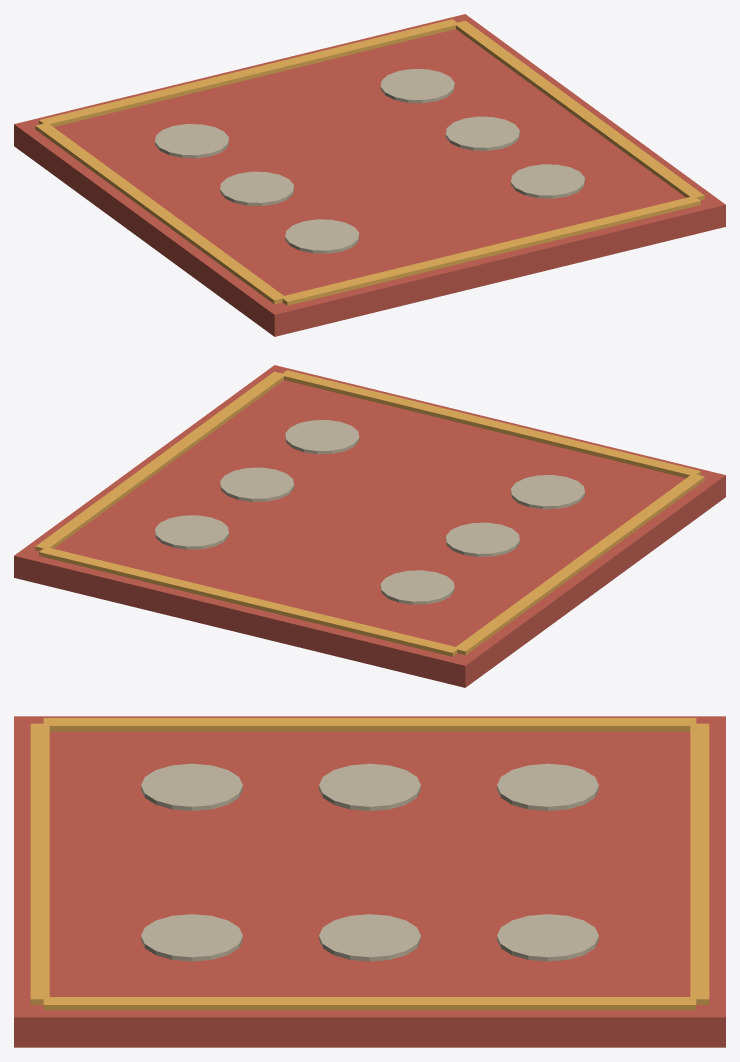
The model's file is space_die_coral_face_6.glb.
3 renders of one model, top to bottom at view 1: azimuth 30°, elevation 25°; view 2: azimuth 150°, elevation 25°; view 3: azimuth 270°, elevation 25°, orthographic. The views are drawn at different scales.
Visible parts, largest first — view 1: FixedDetails, BrassTrim; view 2: FixedDetails, BrassTrim; view 3: FixedDetails, BrassTrim.
Part boxes in pixels (x1,y1,x2,y2): FixedDetails: [14, 14, 725, 336]; BrassTrim: [35, 19, 704, 305]; FixedDetails: [14, 365, 725, 687]; BrassTrim: [35, 370, 704, 656]; FixedDetails: [14, 716, 725, 1047]; BrassTrim: [30, 718, 709, 1010].
Bounding box in the file's own units: 0.6 × 0.034 × 0.6.
